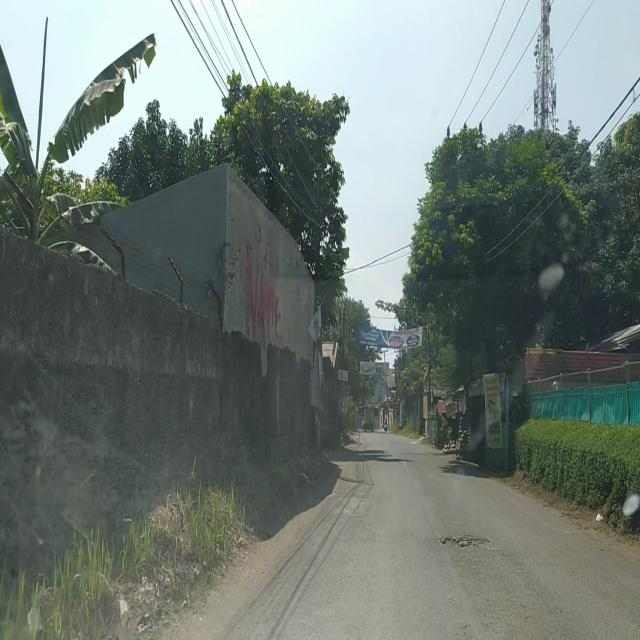Drain Hole: (435, 532, 494, 552)
